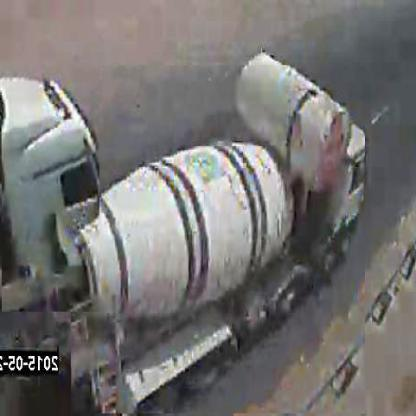truck: (71, 66, 366, 416), (2, 64, 100, 314)
